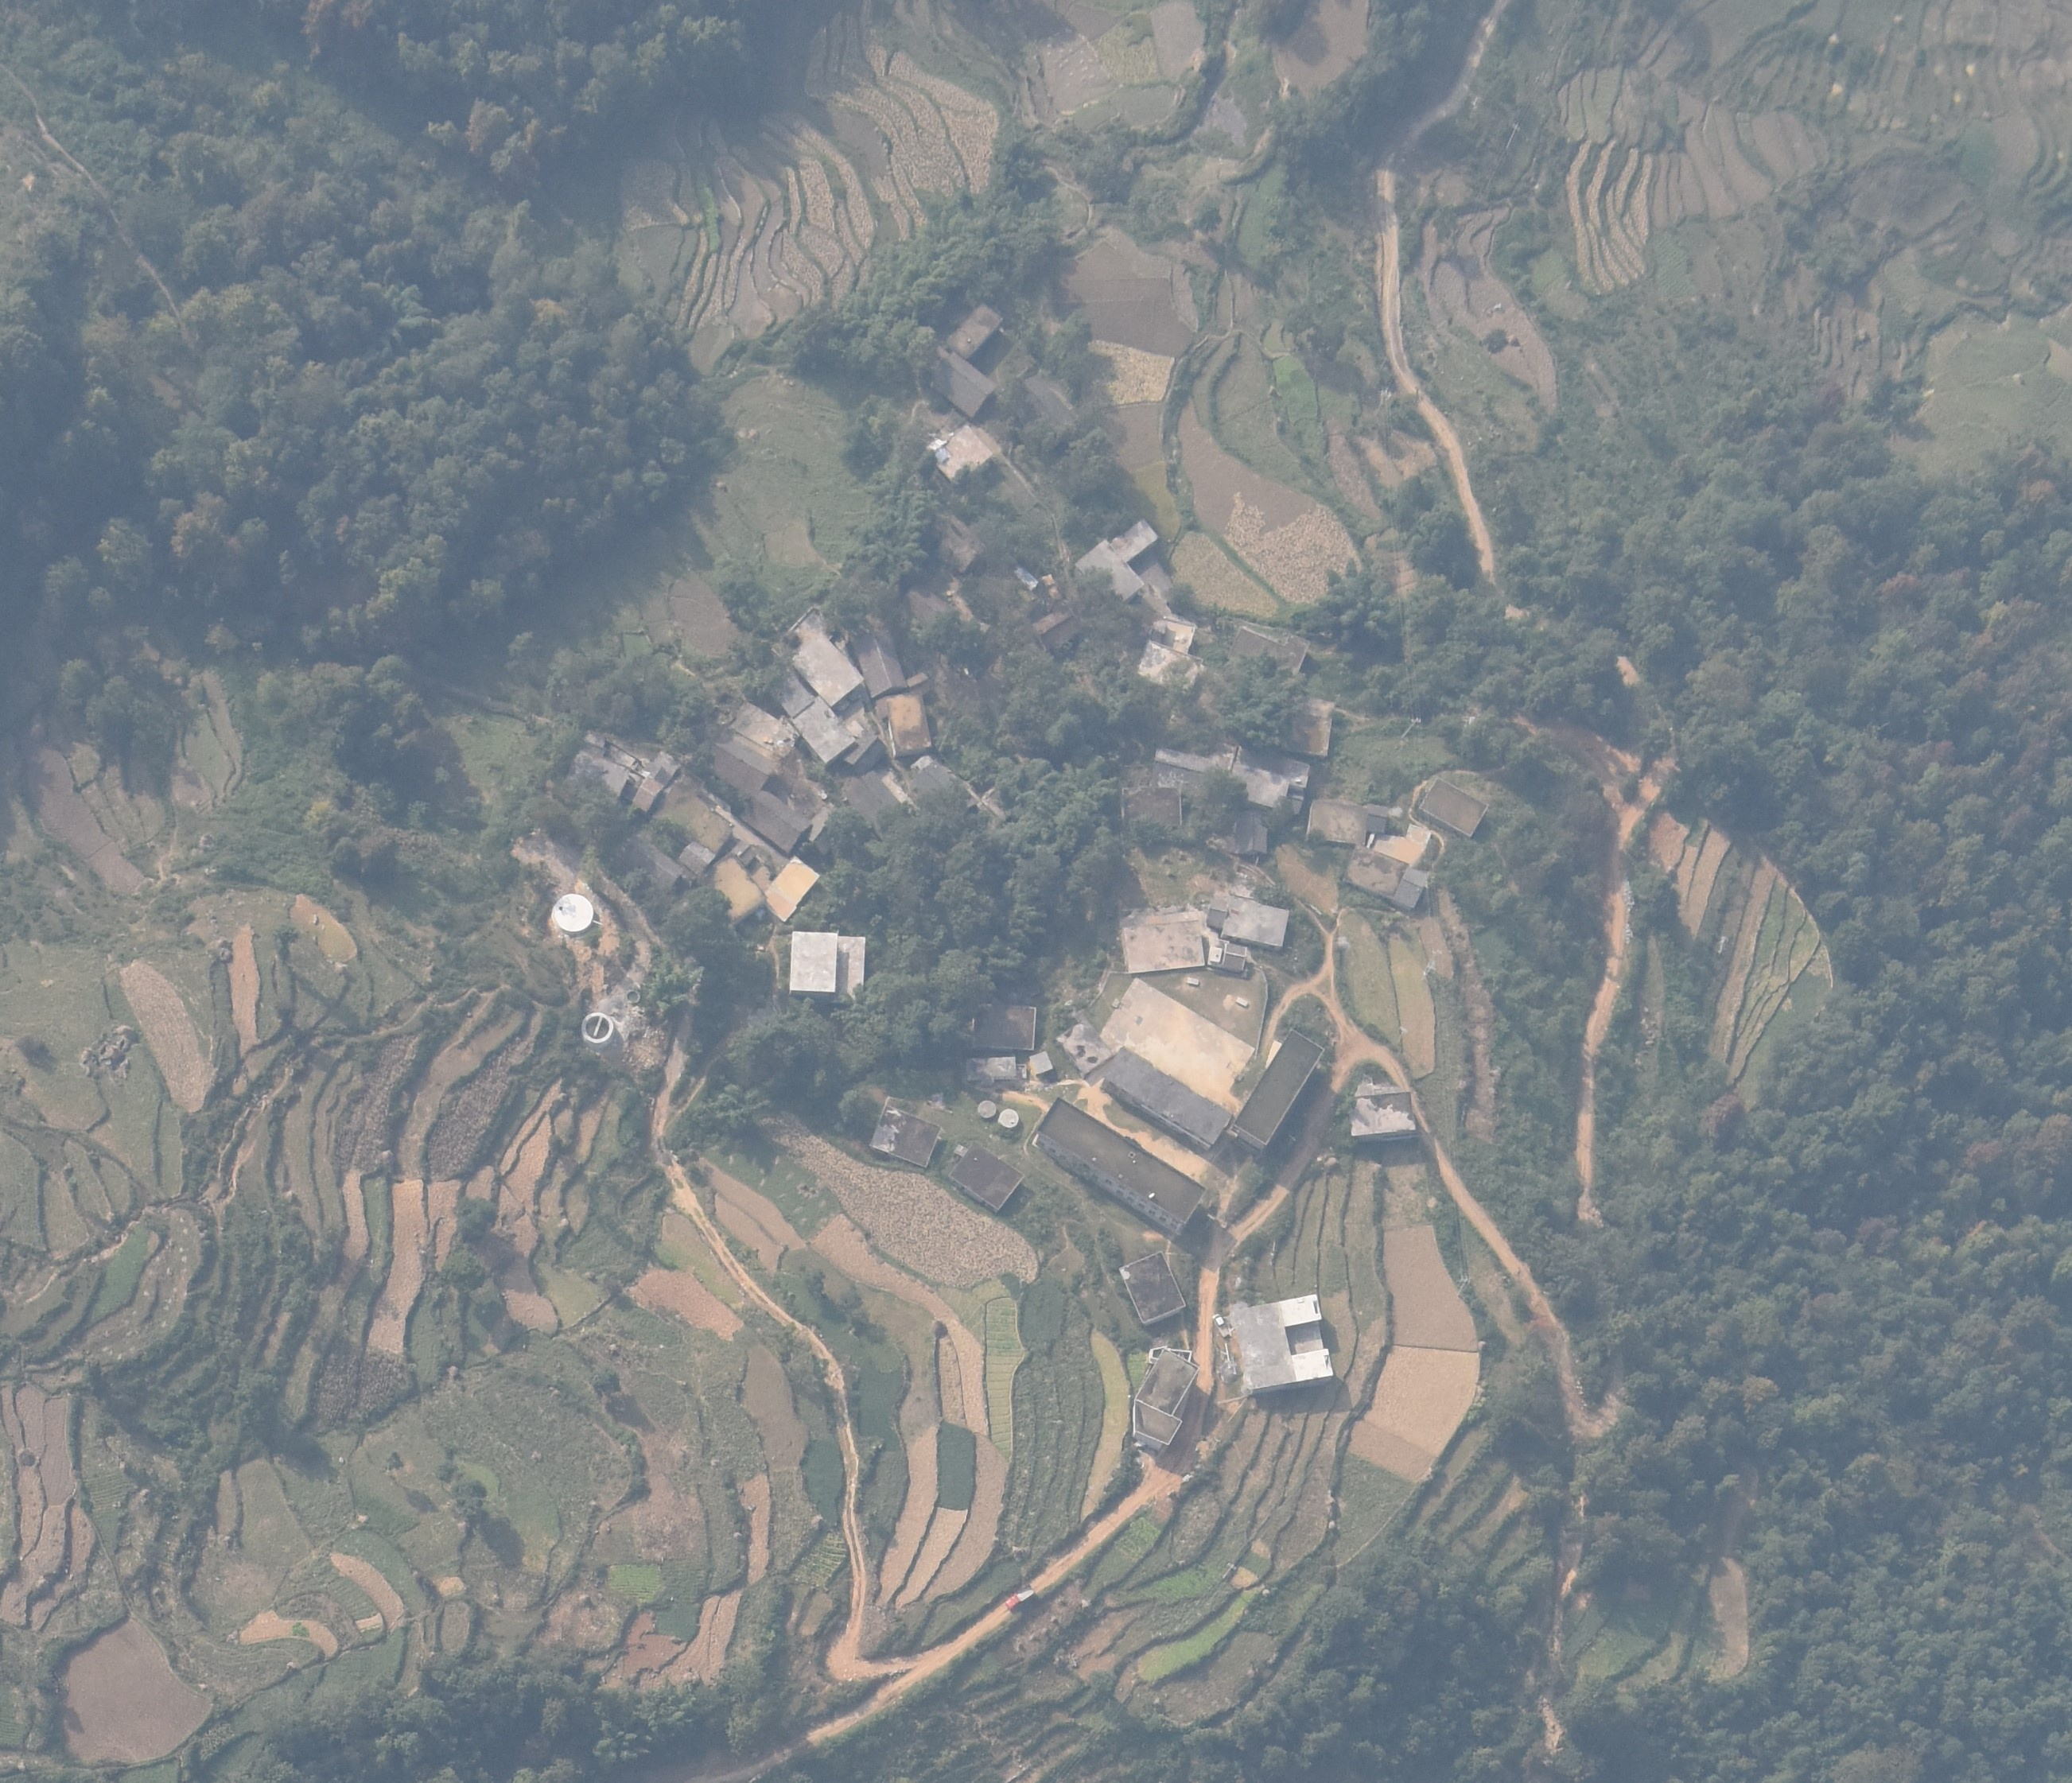building: (1034, 1098, 1209, 1233), (1099, 1047, 1232, 1150), (1233, 1029, 1325, 1147), (1230, 1295, 1336, 1394), (786, 606, 863, 703), (1133, 1348, 1198, 1446), (1343, 846, 1429, 911), (1119, 1251, 1188, 1327), (950, 1142, 1025, 1210), (1121, 913, 1203, 974), (1230, 745, 1309, 807), (1075, 537, 1143, 606), (849, 617, 907, 696), (929, 352, 997, 419), (1135, 620, 1202, 689), (701, 853, 763, 927), (738, 791, 812, 853), (789, 932, 867, 990), (791, 696, 855, 765), (870, 1108, 941, 1168), (1209, 895, 1290, 946), (1420, 777, 1489, 837), (1306, 798, 1388, 847), (1226, 625, 1309, 675), (710, 738, 779, 793), (766, 856, 821, 921), (731, 703, 796, 758), (620, 837, 682, 893), (946, 303, 1004, 361), (1154, 738, 1237, 779), (886, 691, 934, 758), (1055, 1020, 1114, 1075), (967, 1006, 1036, 1052), (934, 426, 994, 477), (1351, 1091, 1417, 1136), (571, 751, 627, 798), (1122, 788, 1182, 832), (904, 585, 953, 631), (1108, 520, 1159, 560), (846, 731, 888, 773), (966, 1055, 1027, 1082), (680, 842, 715, 874), (634, 777, 662, 810), (1223, 943, 1246, 973), (1029, 1050, 1054, 1076)
cable-tower: (1422, 950, 1441, 978), (1374, 389, 1392, 416), (1506, 122, 1521, 152), (1401, 717, 1420, 738), (1223, 1563, 1237, 1579), (1457, 1276, 1471, 1284)
vehicle: (1004, 1584, 1034, 1607), (1212, 1313, 1225, 1327)
well: (551, 893, 592, 932), (580, 1006, 615, 1047), (999, 1108, 1018, 1129), (624, 987, 645, 1006), (978, 1099, 997, 1119)
